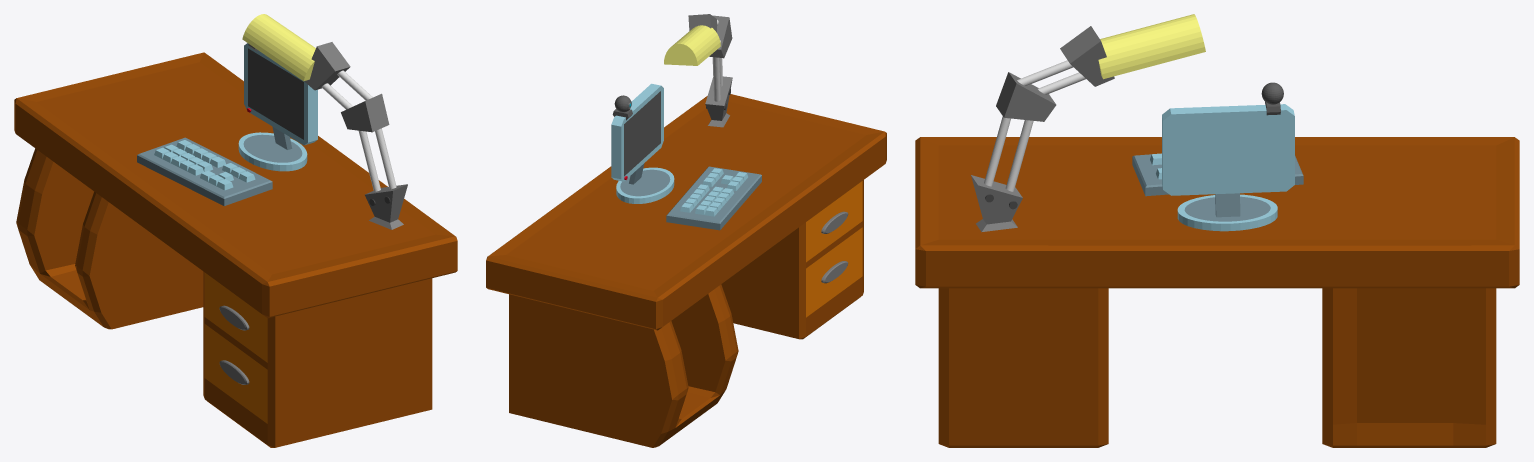
The model's file is stol.fbx.
The picture shows the model from 3 angles, left to right: view 1: azimuth 30°, elevation 25°; view 2: azimuth 150°, elevation 25°; view 3: azimuth 270°, elevation 25°; orthographic projection. The views are drawn at different scales.
Parts seen in each view (by area): view 1: stol, lampa, monik, klava; view 2: stol, monik, klava, lampa; view 3: stol, monik, lampa, klava.
Boxes of the visible parts, left/top/right/bottom form: stol: left=14, top=52, right=457, bottom=447; lampa: left=242, top=14, right=407, bottom=229; monik: left=238, top=43, right=317, bottom=171; klava: left=137, top=137, right=272, bottom=206; stol: left=486, top=94, right=886, bottom=447; monik: left=611, top=83, right=674, bottom=203; klava: left=666, top=166, right=761, bottom=230; lampa: left=664, top=14, right=732, bottom=127; stol: left=915, top=137, right=1519, bottom=447; monik: left=1162, top=82, right=1294, bottom=231; lampa: left=971, top=14, right=1205, bottom=231; klava: left=1132, top=153, right=1303, bottom=196.
Bounding box in the file's own units: 247 × 391 × 542.
